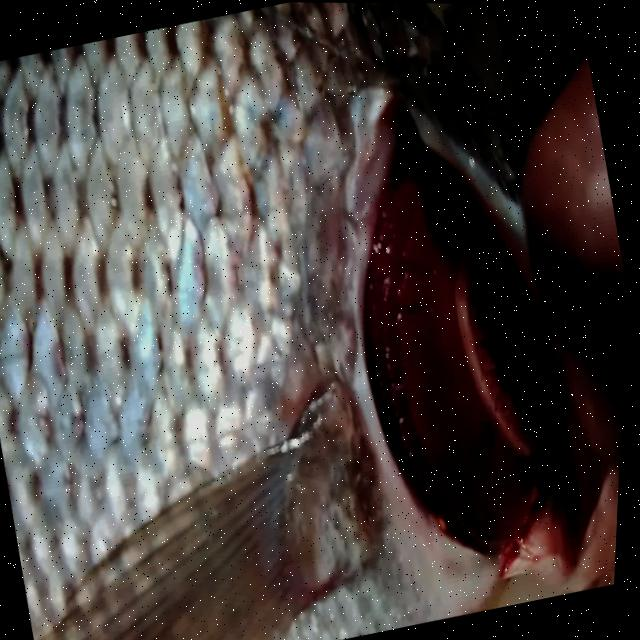Fresh: (335, 164, 608, 608)
